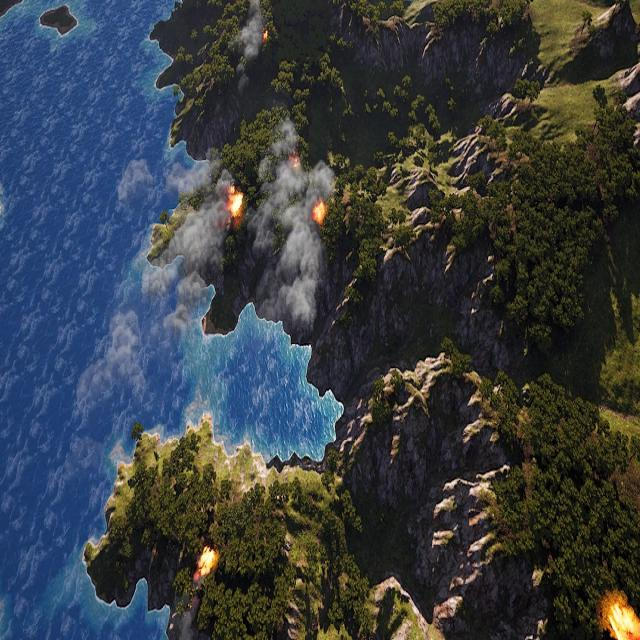fire: (606, 605, 640, 640), (197, 548, 218, 579), (228, 188, 245, 218), (312, 200, 326, 225), (286, 151, 302, 169), (264, 30, 271, 44)
smoke: (78, 150, 242, 428), (246, 116, 335, 339)
